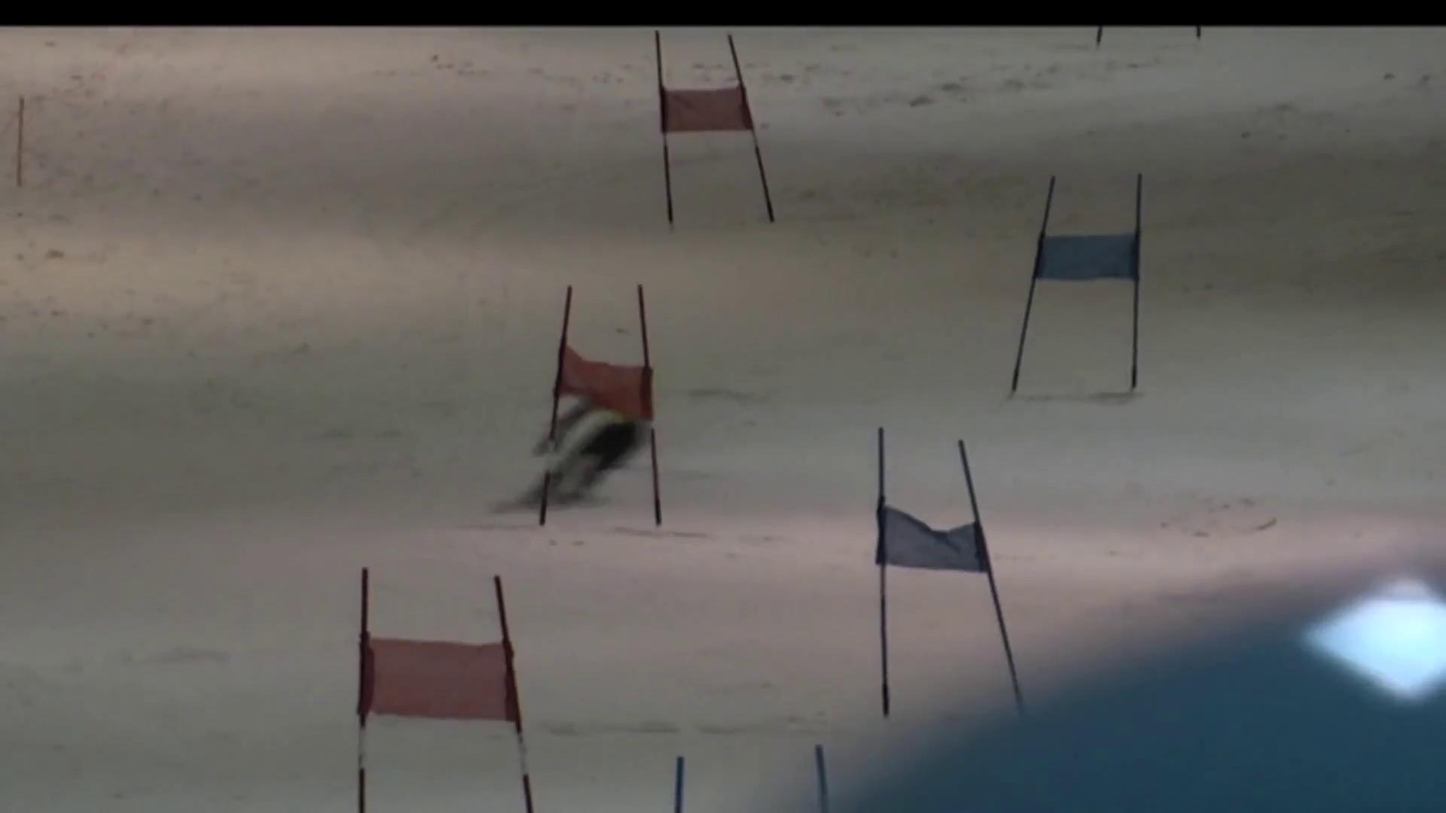gate: (356, 567, 535, 812), (874, 427, 1022, 717), (1009, 173, 1142, 397), (654, 31, 775, 226), (658, 35, 773, 223), (494, 575, 535, 812), (956, 440, 977, 514)
